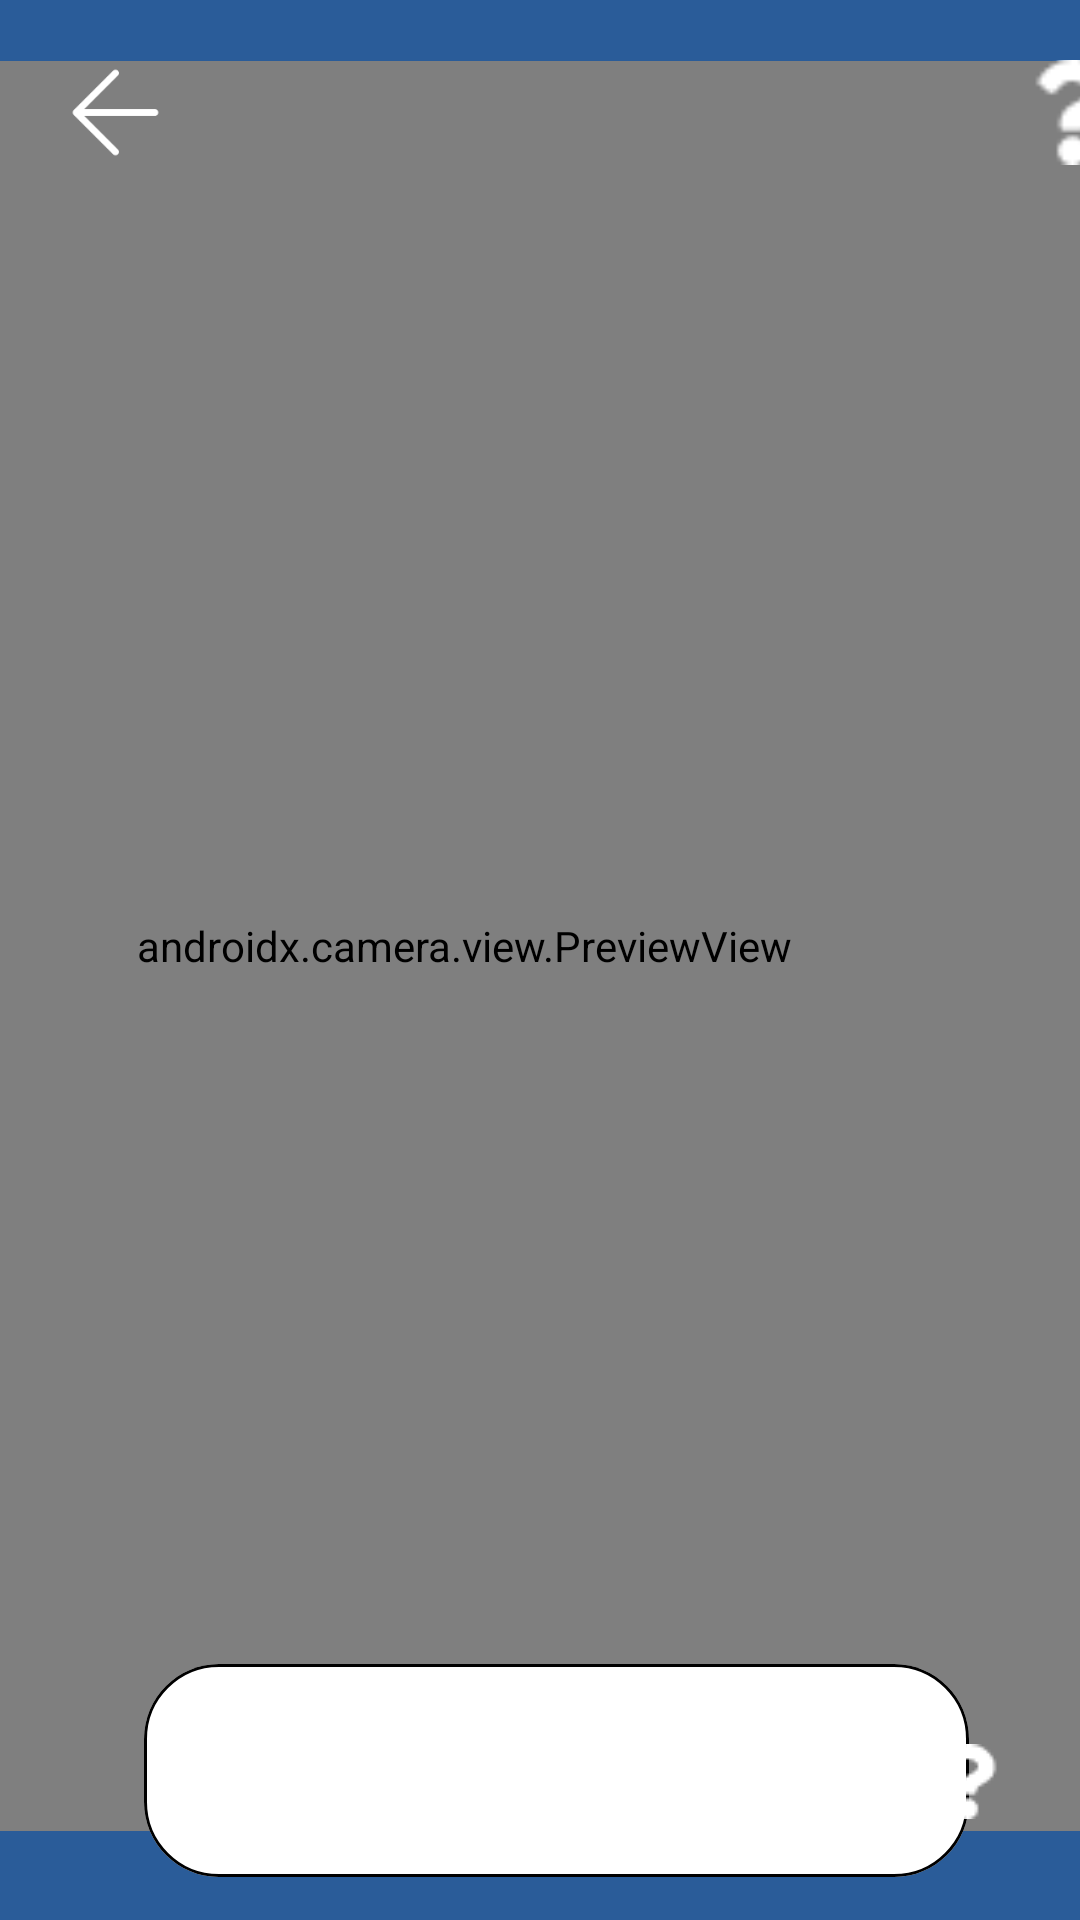

Screen size 1080px×1920px. Icon name, then its box in pixels as (x1, y1, x2, y2):
arrow left: (48, 45, 183, 156)
